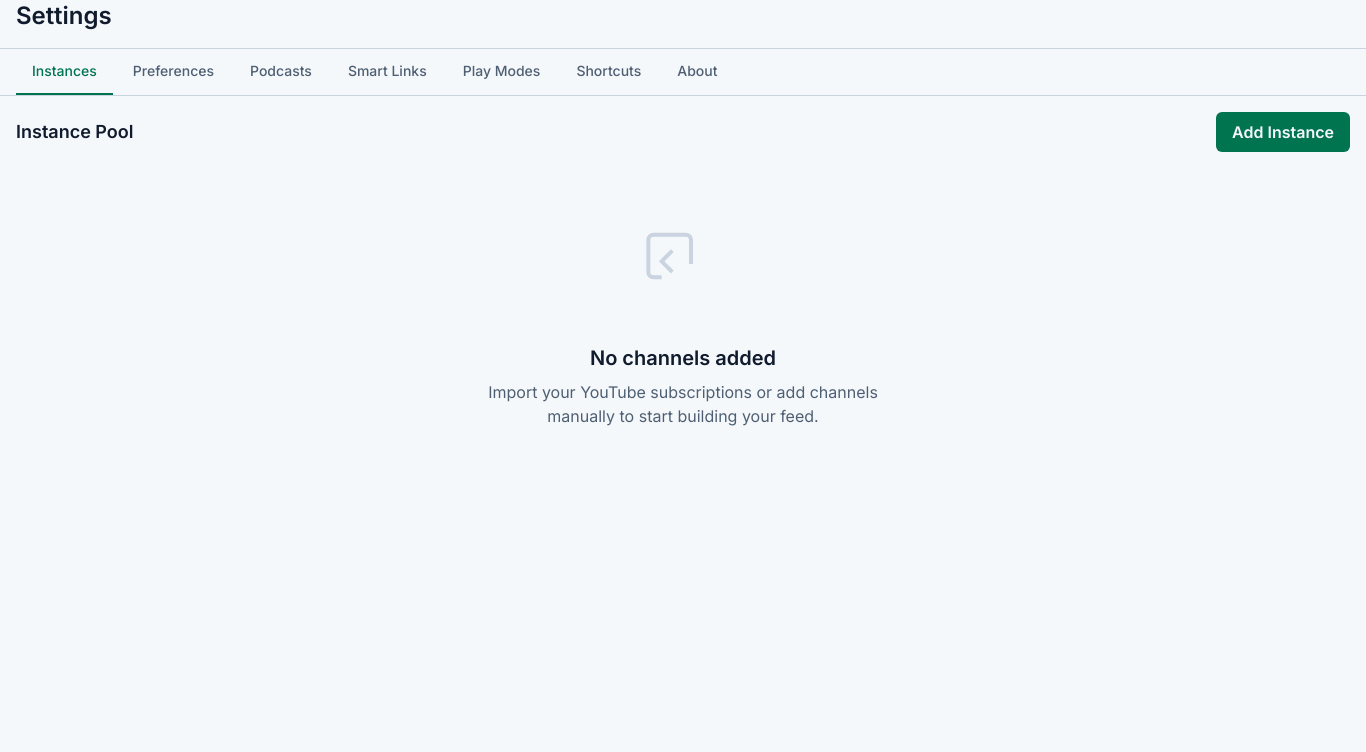
Test: 4f: crash reports are local-first and opt-in for submission › defaults to opt-OUT: no file-issue button even with a capture present
The image size is (1366, 752).
Step 1. Click the tab "Preferences" → click(173, 72), box 117,49 -> 230,95
(page scrolled)
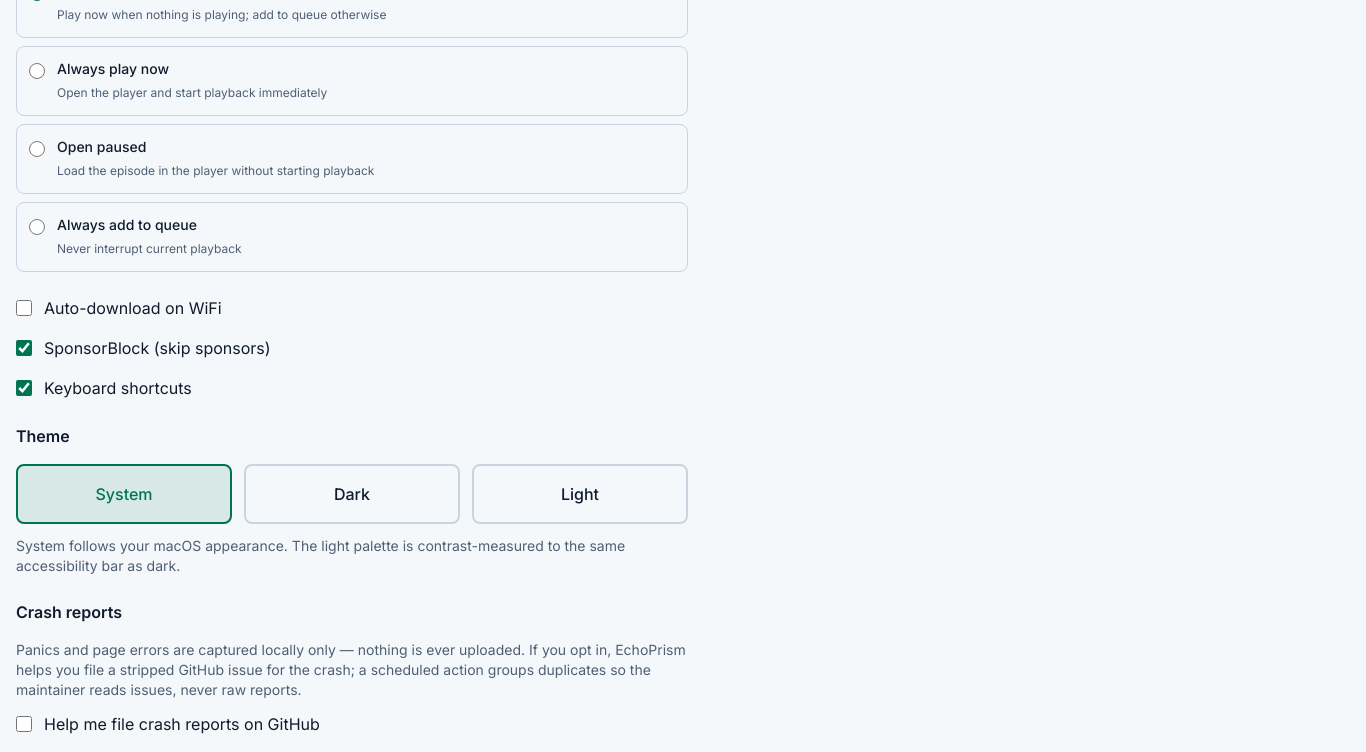
expect the heading "Crash reports" is shown: met, box 16,602 -> 122,622
